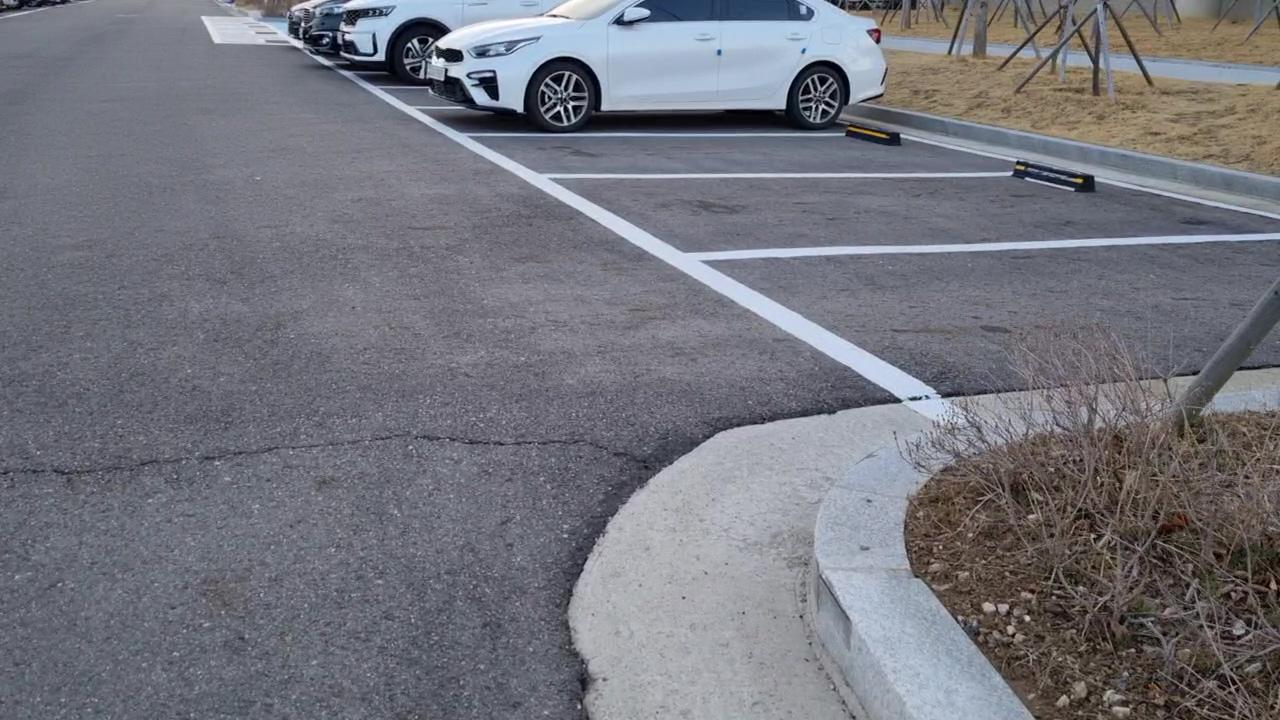empty: (686, 218, 1280, 428), (543, 159, 1280, 256), (450, 126, 1056, 180)
occupied: (410, 4, 888, 140)
